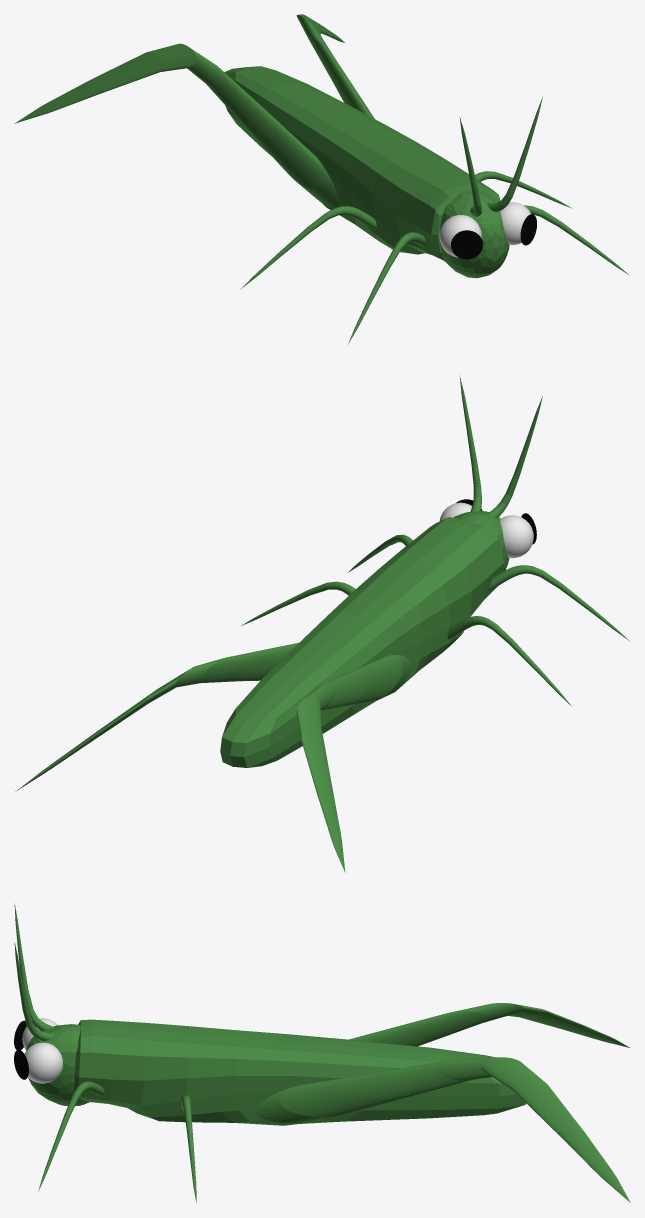
The model's file is Grasshopper.fbx.
3 views of the same model, one above another, from view 1: azimuth 30°, elevation 25°; view 2: azimuth 150°, elevation 25°; view 3: azimuth 270°, elevation 25° (orthographic). The views are drawn at different scales.
Parts seen in each view (by area): view 1: Cube, Sphere, Sphere.001, Circle.001; view 2: Cube, Sphere.001; view 3: Cube, Sphere.
Boxes of the visible parts, x1,y1,x2,y2 form: Cube: (14, 14, 629, 344); Sphere: (500, 202, 531, 245); Sphere.001: (439, 215, 481, 257); Circle.001: (451, 230, 482, 259); Cube: (15, 375, 630, 872); Sphere.001: (500, 515, 533, 558); Cube: (14, 903, 630, 1203); Sphere: (24, 1042, 63, 1083).
Bounding box in the file's own units: 816 × 500 × 1364.
